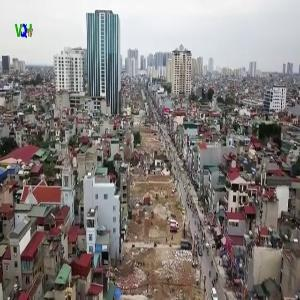drone: (218, 138, 280, 200)
